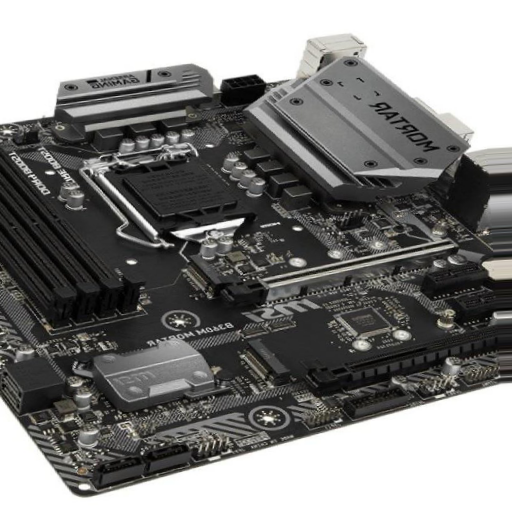CPU: (85, 141, 257, 247)
GPU: (224, 235, 459, 305), (303, 322, 511, 393)
MOTHERBOARD: (1, 73, 512, 497)
RAM: (1, 143, 144, 325)
SSD: (182, 254, 226, 297)
